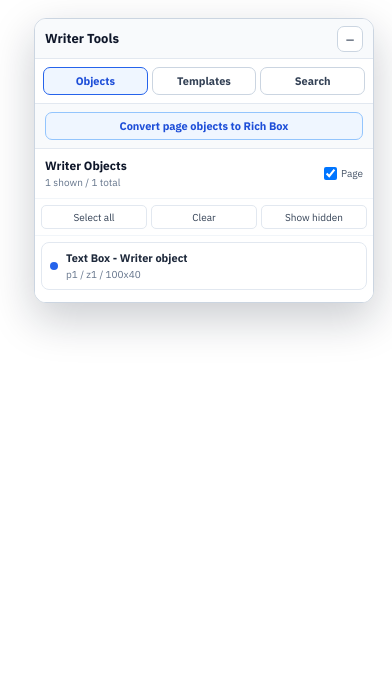
Test: WriterToolsHub › switches tabs
What coordinates should you click on to do the following:
click the button "Templates"
I would click on:
 (204, 81)
Its box is [152, 67, 256, 95].
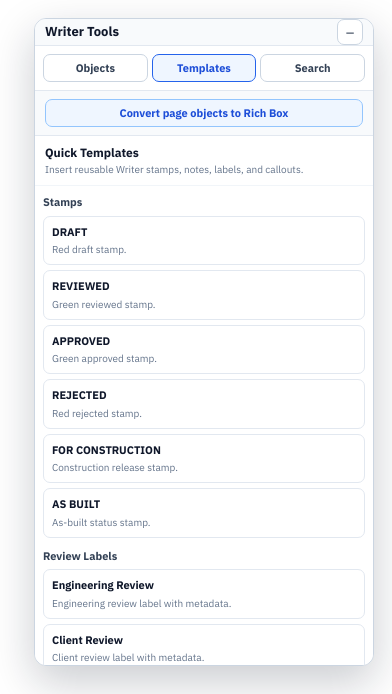
expect the element named "Writer V2 quick templates" is shown: met
What coordinates should you click on to do the following:
click the button "Search"
I would click on:
 (313, 68)
Its box is [260, 54, 365, 82].
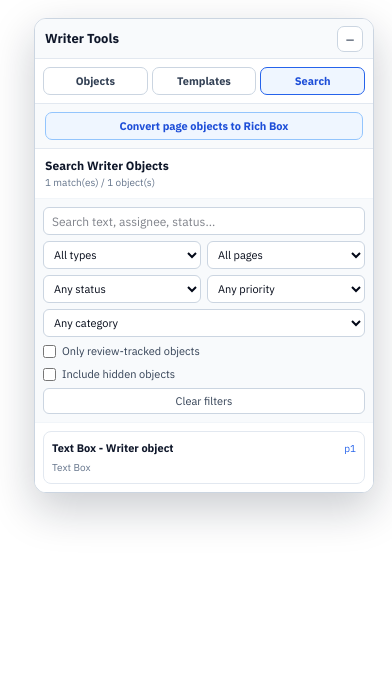
expect the element named "Writer V2 object search" is shown: met, box [35, 149, 373, 492]
